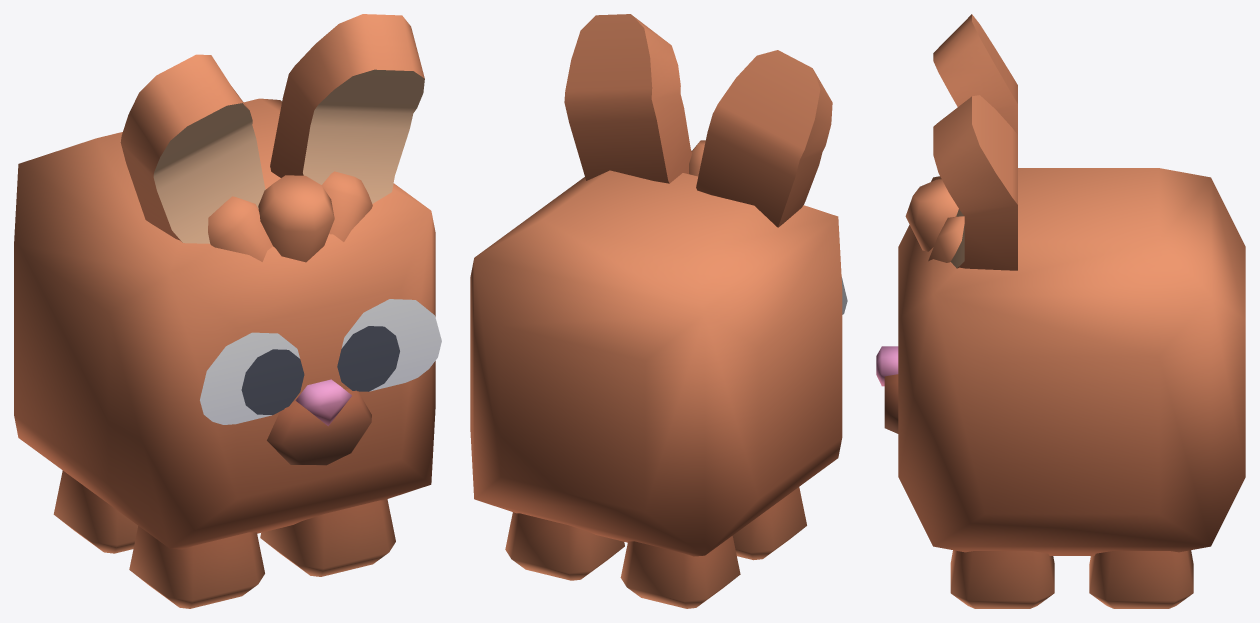
Rendered from animal-bunny.obj.
The picture shows the model from 3 angles, left to right: view 1: azimuth 30°, elevation 25°; view 2: azimuth 150°, elevation 25°; view 3: azimuth 270°, elevation 25°; orthographic projection. The views are drawn at different scales.
Parts seen in each view (by area): view 1: body, leg-front-right, leg-front-left, leg-back-right; view 2: body, leg-back-right, leg-back-left, leg-front-right; view 3: body, leg-back-left, leg-front-left.
Boxes of the visible parts, x1,y1,x2,y2 form: body: (14, 14, 441, 549); leg-front-right: (129, 526, 264, 608); leg-front-left: (260, 499, 395, 576); leg-back-right: (53, 470, 137, 553); body: (470, 14, 847, 556); leg-back-right: (620, 536, 740, 608); leg-back-left: (505, 512, 624, 580); leg-front-right: (732, 487, 806, 560); body: (876, 14, 1245, 555); leg-back-left: (1089, 550, 1193, 608); leg-front-left: (950, 550, 1054, 608).
Size of the model in its own units: 1.25 by 2.01 by 1.33.
